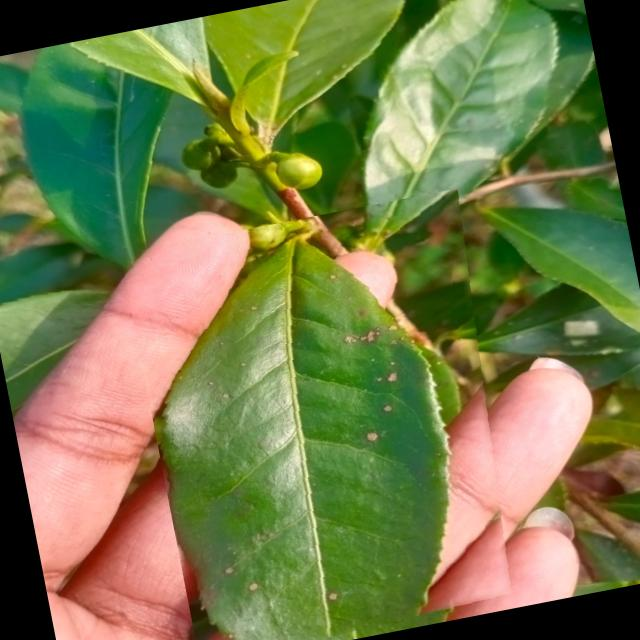Category D(7+ days, Not for Tea): (121, 188, 539, 640)
